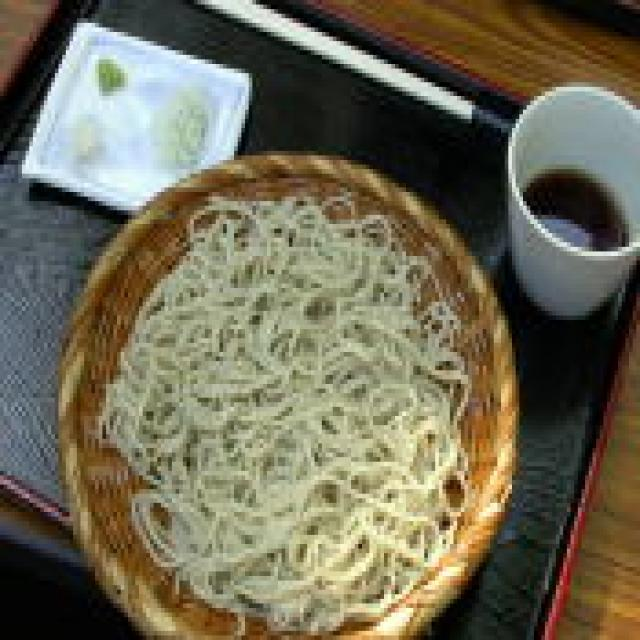面条主食: (44, 128, 530, 640)
